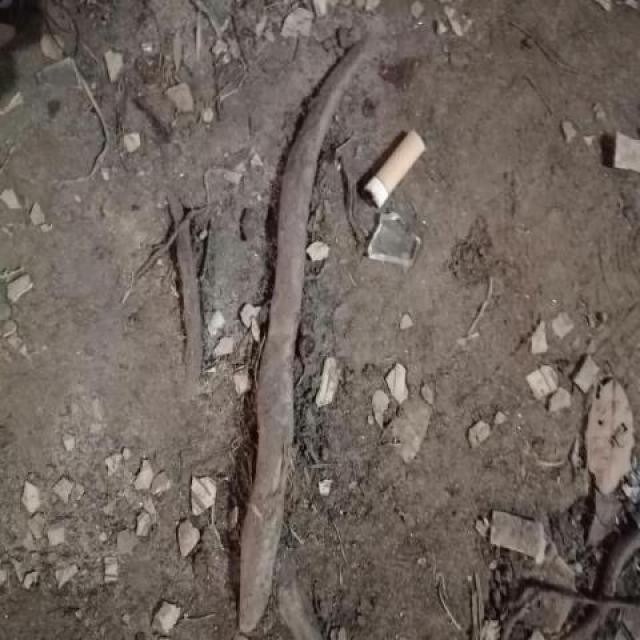non-organic waste: (358, 122, 430, 210)
